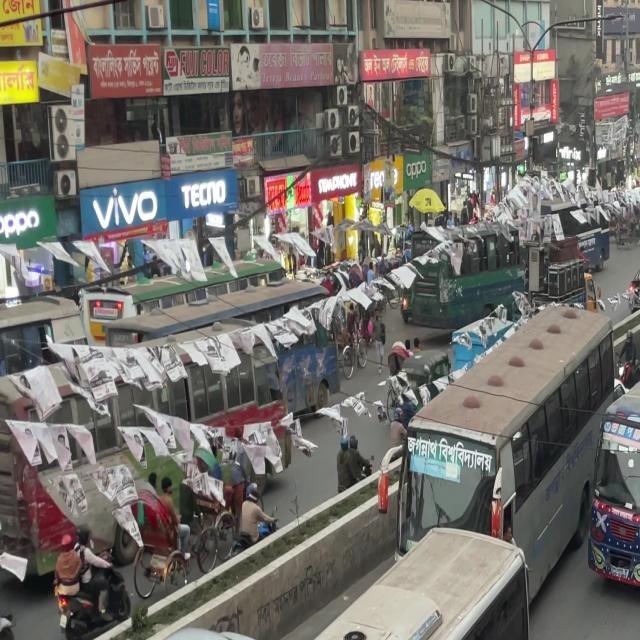bus: (367, 277, 616, 552), (376, 275, 620, 520), (164, 516, 542, 640), (583, 314, 640, 602)
